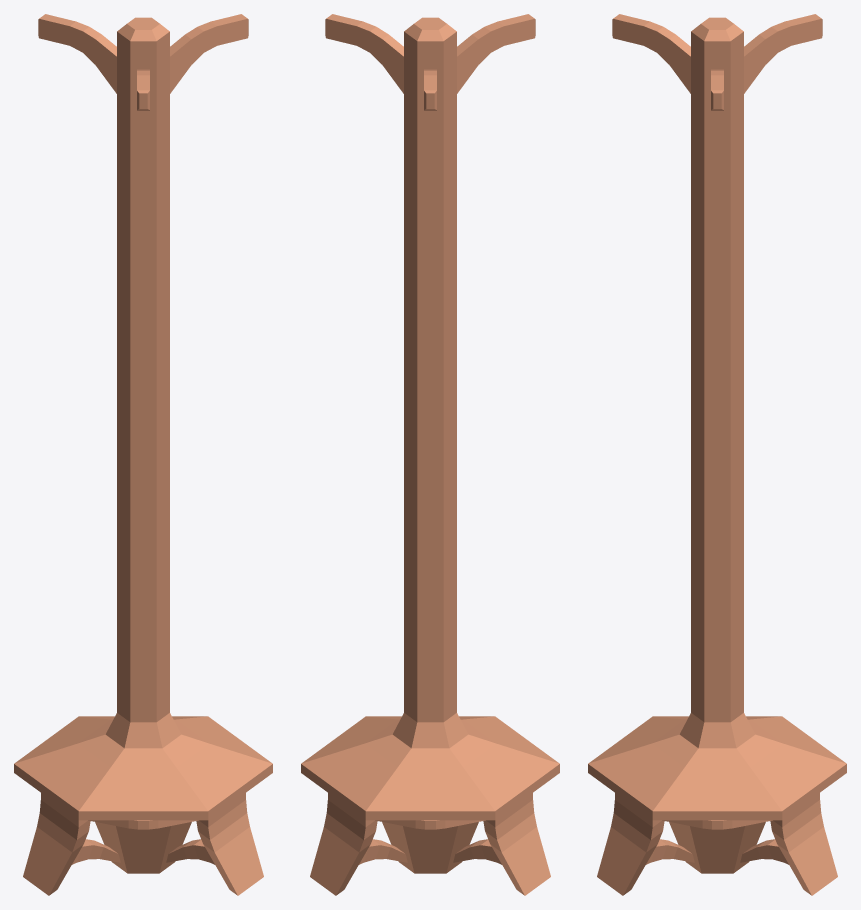
The model's file is coatrack.fbx.
The picture shows the model from 3 angles, left to right: view 1: azimuth 30°, elevation 25°; view 2: azimuth 150°, elevation 25°; view 3: azimuth 270°, elevation 25°; orthographic projection.
Parts seen in each view (by area): view 1: Cylinder; view 2: Cylinder; view 3: Cylinder.
Part boxes in pixels (x1,y1,x2,y2): Cylinder: [14, 14, 272, 895]; Cylinder: [301, 14, 559, 895]; Cylinder: [588, 14, 846, 895].
Bounding box in the file's own units: 376 × 1428 × 400.
